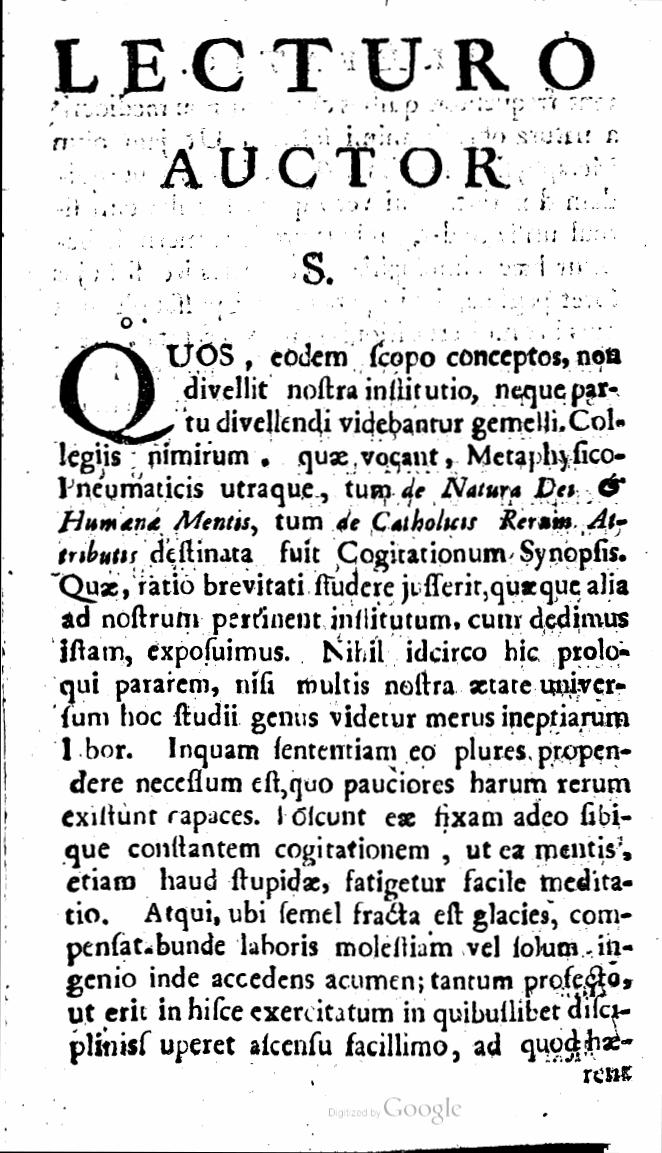catchword: (578, 1060, 637, 1088)
full_p: (47, 28, 618, 290)
initial_l: (50, 337, 177, 447)
top_p: (53, 340, 635, 1062)
